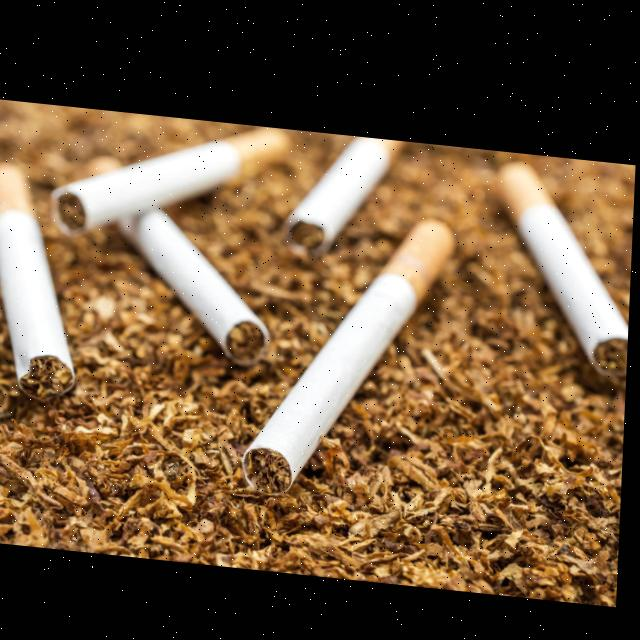cigarette: (245, 209, 459, 489), (495, 149, 631, 363), (52, 122, 295, 237), (117, 204, 273, 361), (0, 161, 80, 401), (284, 128, 410, 251)
